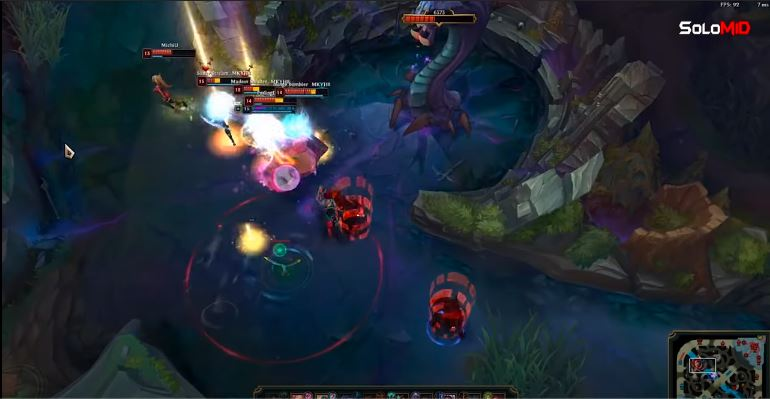bar: (241, 101, 299, 116), (240, 92, 302, 106), (140, 46, 201, 59), (195, 73, 252, 86), (231, 83, 295, 94), (273, 85, 330, 97)
